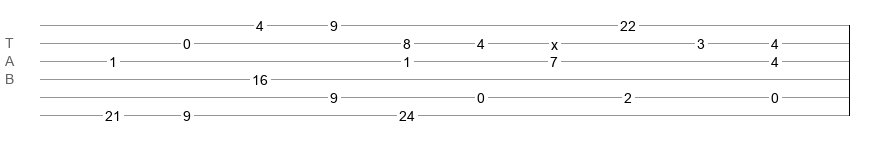0: (183, 36, 191, 46), (477, 90, 485, 100), (771, 90, 779, 100)
1: (109, 54, 117, 64), (403, 54, 411, 64)
16: (252, 72, 268, 82)
2: (624, 90, 632, 100)
21: (105, 108, 121, 118)
22: (620, 18, 636, 28)
24: (399, 108, 415, 118)
3: (697, 36, 705, 46)
4: (256, 18, 264, 28), (477, 36, 485, 46), (771, 54, 779, 64), (771, 36, 779, 46)
7: (550, 54, 558, 64)
8: (403, 36, 411, 46)
9: (183, 108, 191, 118), (330, 90, 338, 100), (330, 18, 338, 28)
x: (551, 37, 558, 45)
